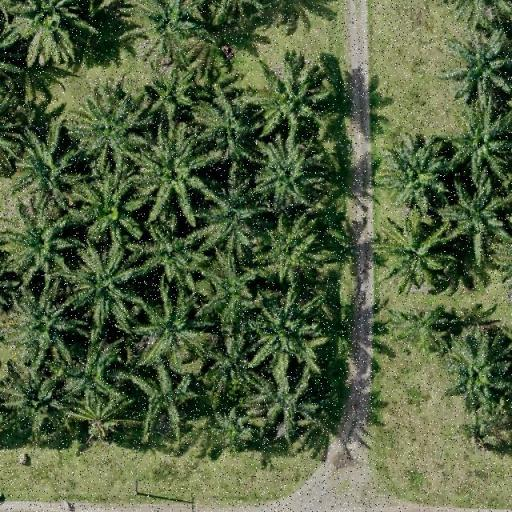Ganoderma: (77, 405, 116, 442)
